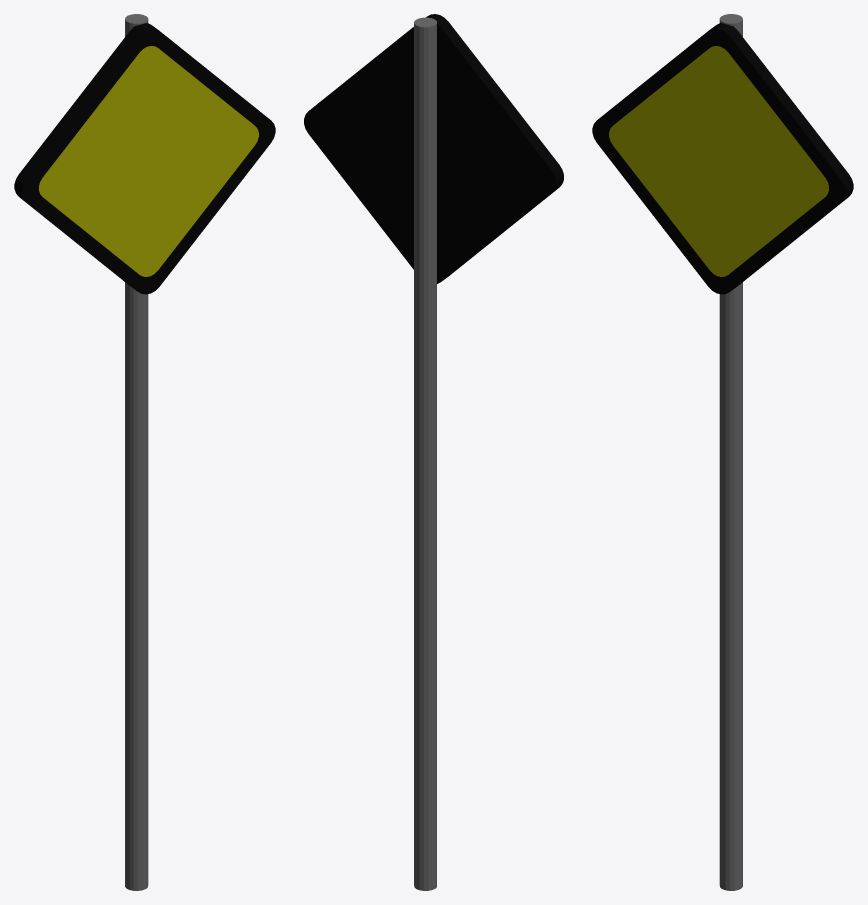
The model's file is CautionSign.fbx.
The picture shows the model from 3 angles, left to right: view 1: azimuth 30°, elevation 25°; view 2: azimuth 150°, elevation 25°; view 3: azimuth 330°, elevation 25°; orthographic projection.
Visible parts, largest first — view 1: Cylinder.069; view 2: Cylinder.069; view 3: Cylinder.069.
Boxes of the visible parts, x1,y1,x2,y2 form: Cylinder.069: [14, 14, 275, 890]; Cylinder.069: [304, 14, 563, 890]; Cylinder.069: [592, 14, 853, 890].
Bounding box in the file's own units: 300 × 981 × 37.2.
